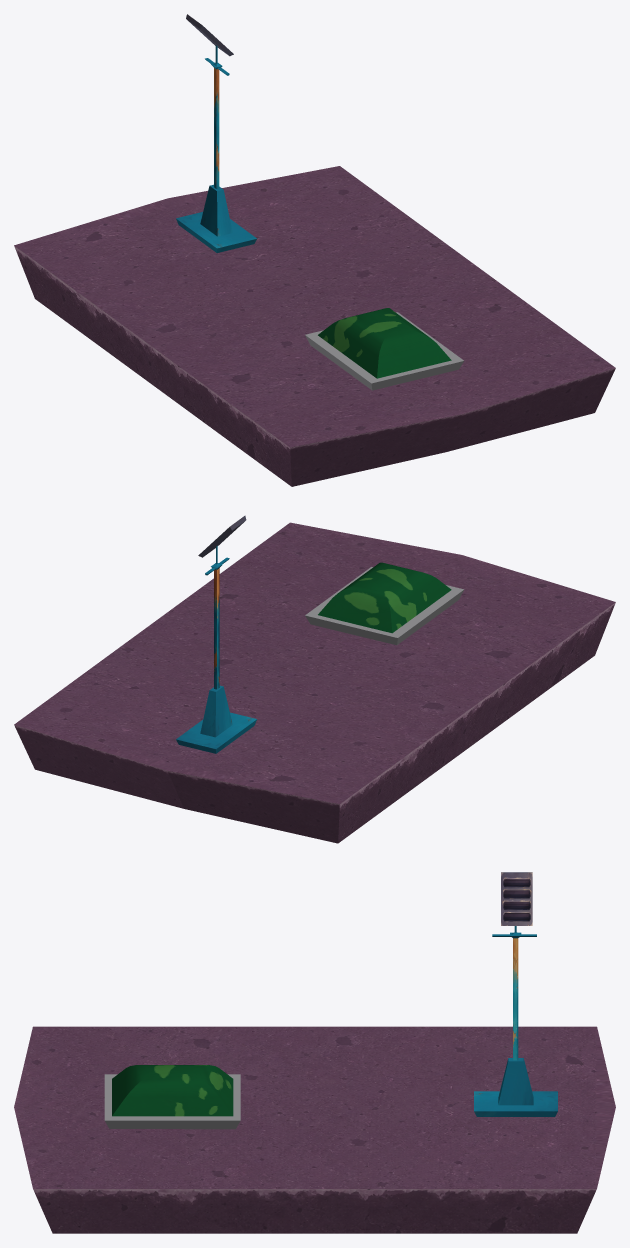
The model's file is PROP2.fbx.
3 renders of one model, top to bottom at view 1: azimuth 30°, elevation 25°; view 2: azimuth 150°, elevation 25°; view 3: azimuth 270°, elevation 25°, orthographic. The views are drawn at different scales.
Visible parts, largest first — view 1: Cube, Cube.002, Cube.003; view 2: Cube, Cube.002, Cube.003; view 3: Cube, Cube.002, Cube.003, Cube.004.
Part boxes in pixels (left/top/right/bottom): Cube: left=14, top=166, right=615, bottom=486; Cube.002: left=305, top=308, right=463, bottom=390; Cube.003: left=176, top=45, right=256, bottom=252; Cube: left=14, top=522, right=615, bottom=843; Cube.002: left=305, top=562, right=464, bottom=645; Cube.003: left=176, top=545, right=256, bottom=753; Cube: left=14, top=1026, right=615, bottom=1233; Cube.002: left=104, top=1065, right=240, bottom=1129; Cube.003: left=474, top=926, right=557, bottom=1116; Cube.004: left=501, top=872, right=532, bottom=925.
Bounding box in the file's own units: 200 × 175 × 313.
Materials: 4 (4 with a texture image).
